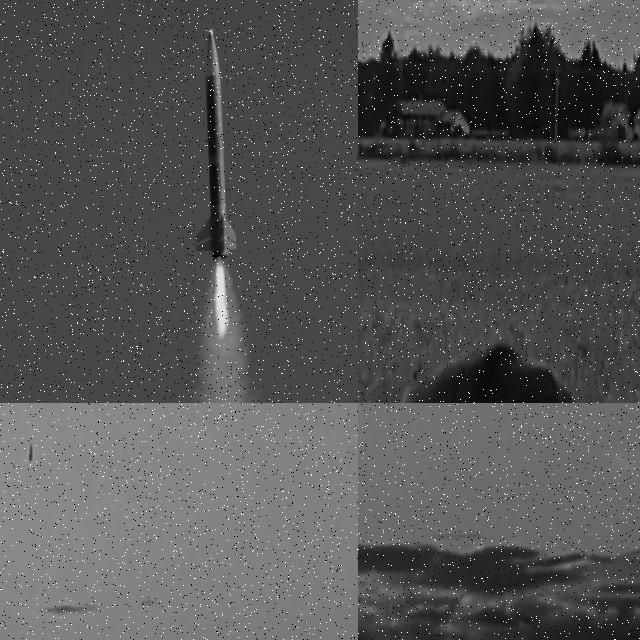Rocket: (195, 29, 238, 259), (28, 444, 33, 461)
